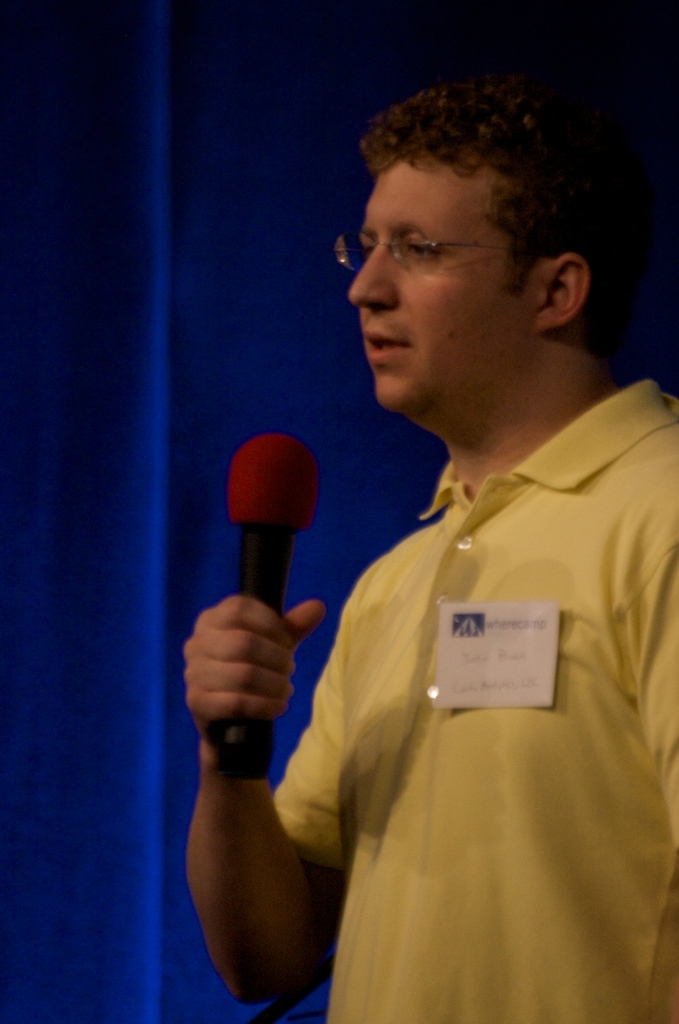Human_hand: (178, 587, 326, 759)
